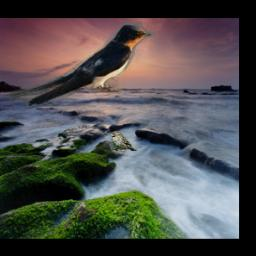Sparrow: (110, 132, 137, 152)
Swallow: (8, 20, 155, 106)
